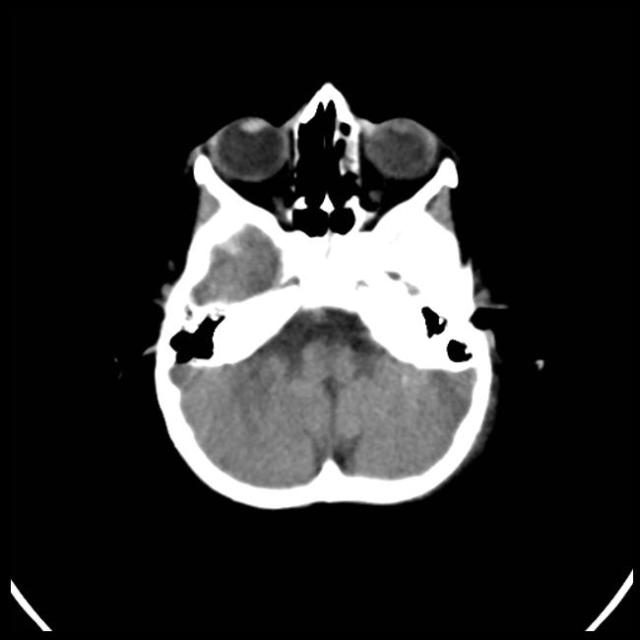lesion: (144, 78, 511, 513)
